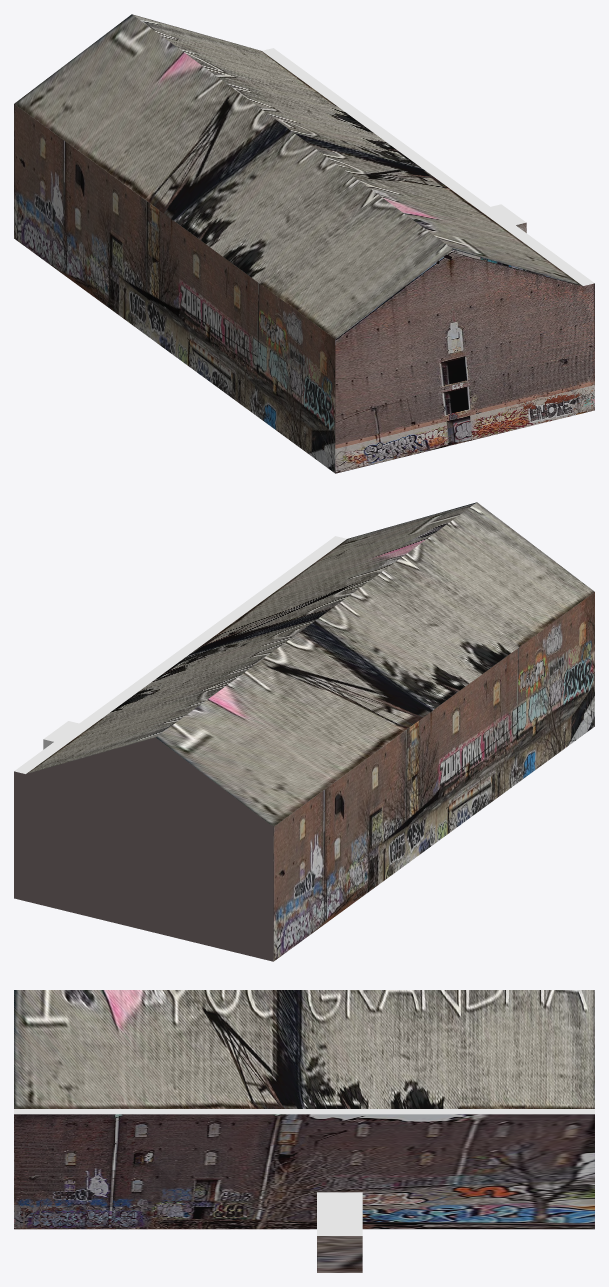
The model's file is ENote Building2.fbx.
The picture shows the model from 3 angles, top to bottom: view 1: azimuth 30°, elevation 25°; view 2: azimuth 150°, elevation 25°; view 3: azimuth 270°, elevation 25°; orthographic projection. The views are drawn at different scales.
Visible parts, largest first — view 1: Model; view 2: Model; view 3: Model.
Boxes of the visible parts, x1=… form: Model: x1=14, y1=14, x2=594, y2=473; Model: x1=14, y1=502, x2=594, y2=961; Model: x1=14, y1=990, x2=594, y2=1272.
Size of the model in its own units: 294 by 153 by 456.
